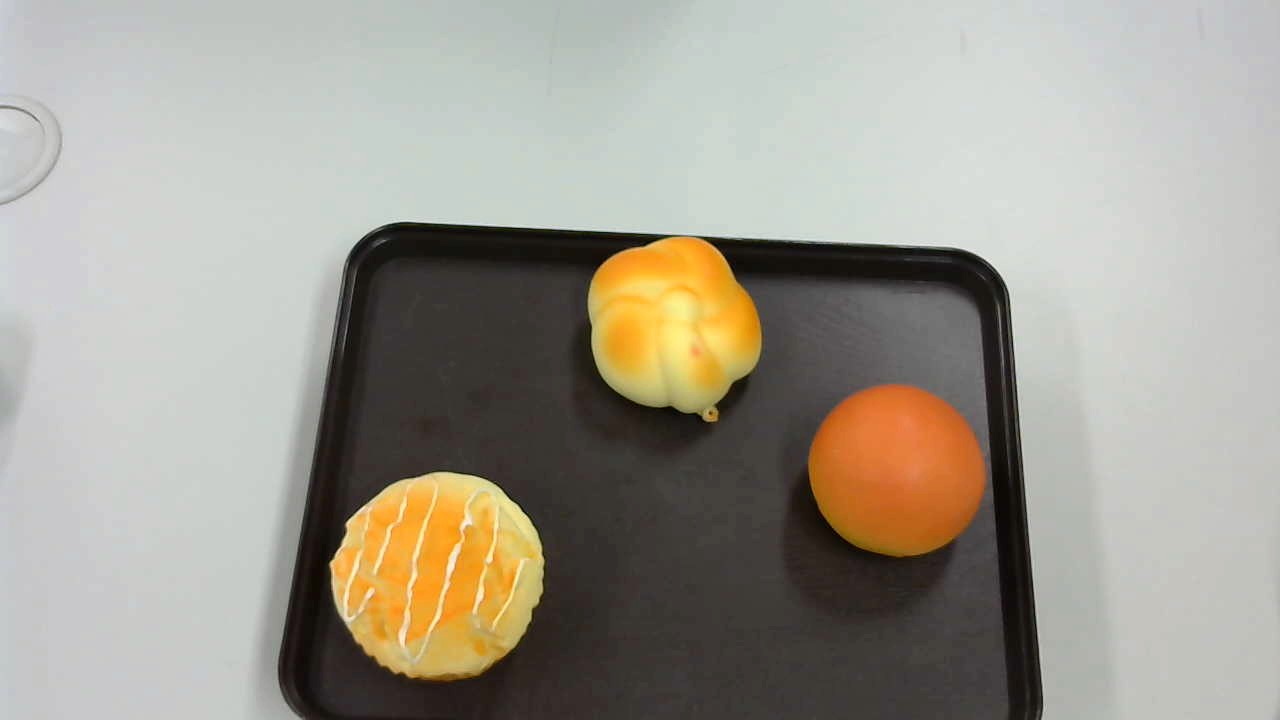bun: (808, 384, 985, 555)
cupcake: (327, 471, 545, 681)
twist bread: (587, 238, 764, 422)
